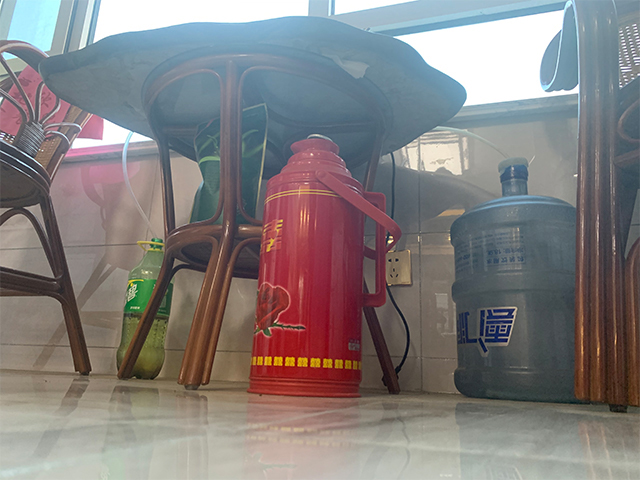stool: (1, 38, 92, 376)
table: (38, 14, 468, 396)
